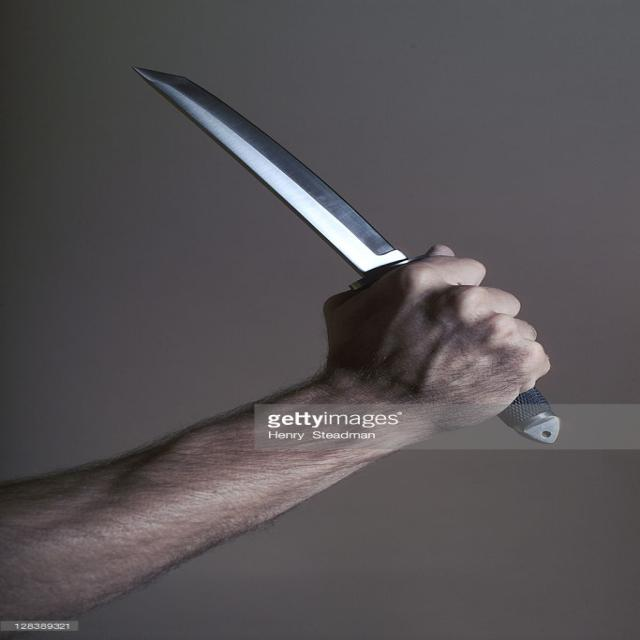knife: (132, 62, 567, 447)
